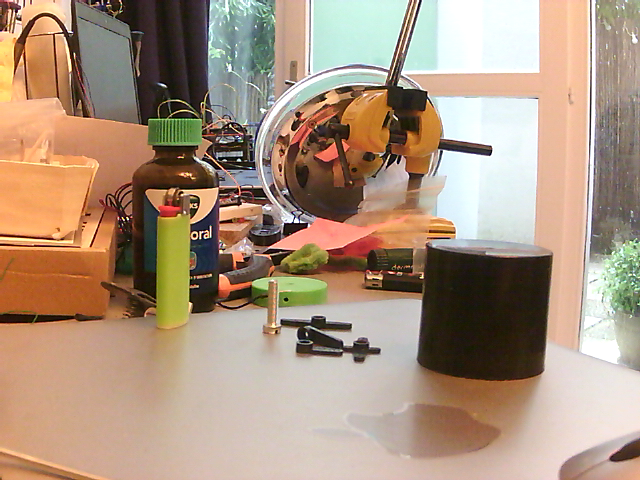bolt: (261, 278, 283, 337)
lighter: (155, 187, 192, 333)
